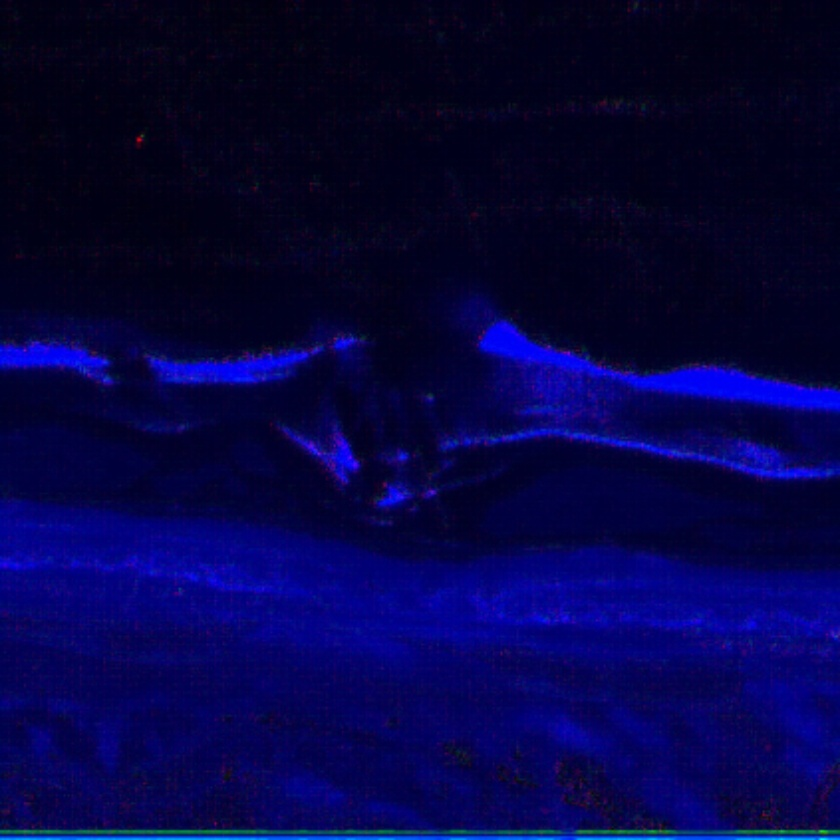rip_current: (295, 242, 493, 480)
